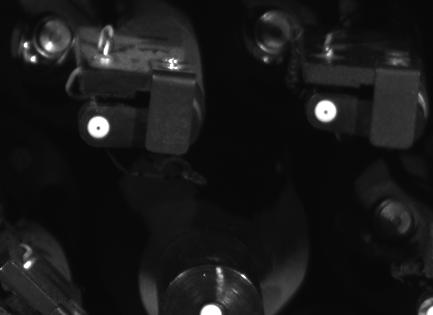fiber: (310, 96, 344, 130), (82, 112, 116, 143)
